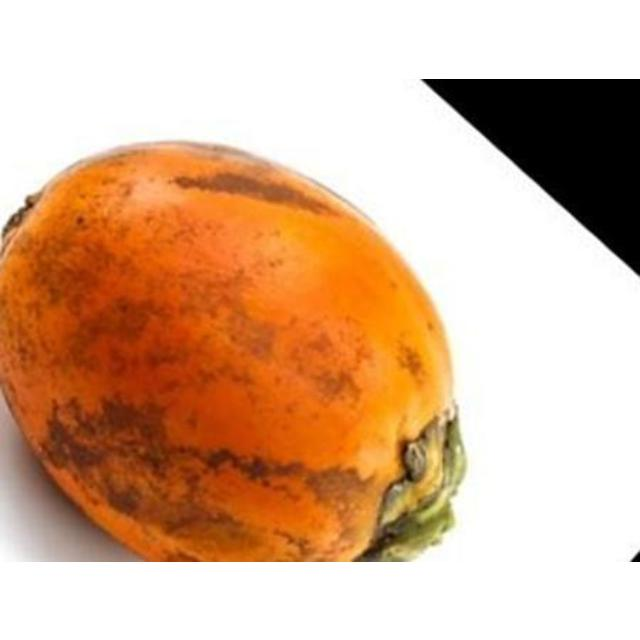good: (0, 141, 469, 560)
